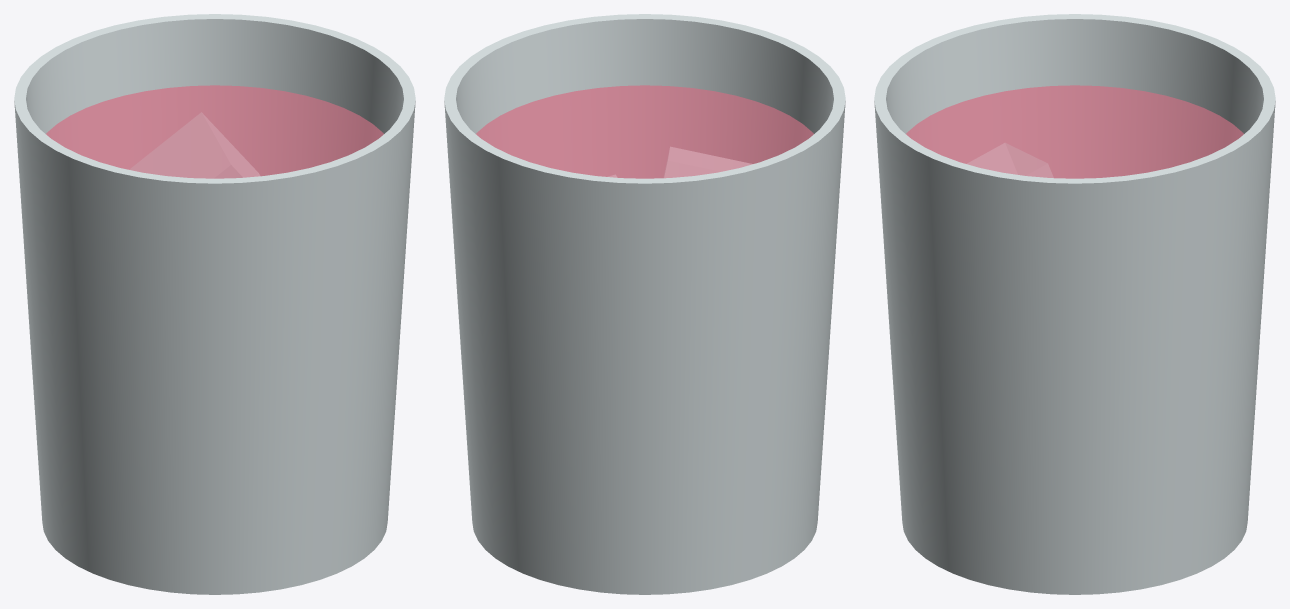
Rendered from caipirinha-rosa.glb.
The picture shows the model from 3 angles, left to right: view 1: azimuth 30°, elevation 25°; view 2: azimuth 150°, elevation 25°; view 3: azimuth 270°, elevation 25°; orthographic projection.
Visible parts, largest first — view 1: caipirinha-rosa; view 2: caipirinha-rosa; view 3: caipirinha-rosa.
Boxes of the visible parts, x1,y1,x2,y2 form: caipirinha-rosa: (14, 14, 415, 594); caipirinha-rosa: (444, 14, 845, 594); caipirinha-rosa: (874, 14, 1275, 594).
Bounding box in the file's own units: 0.086 × 0.1 × 0.086.
